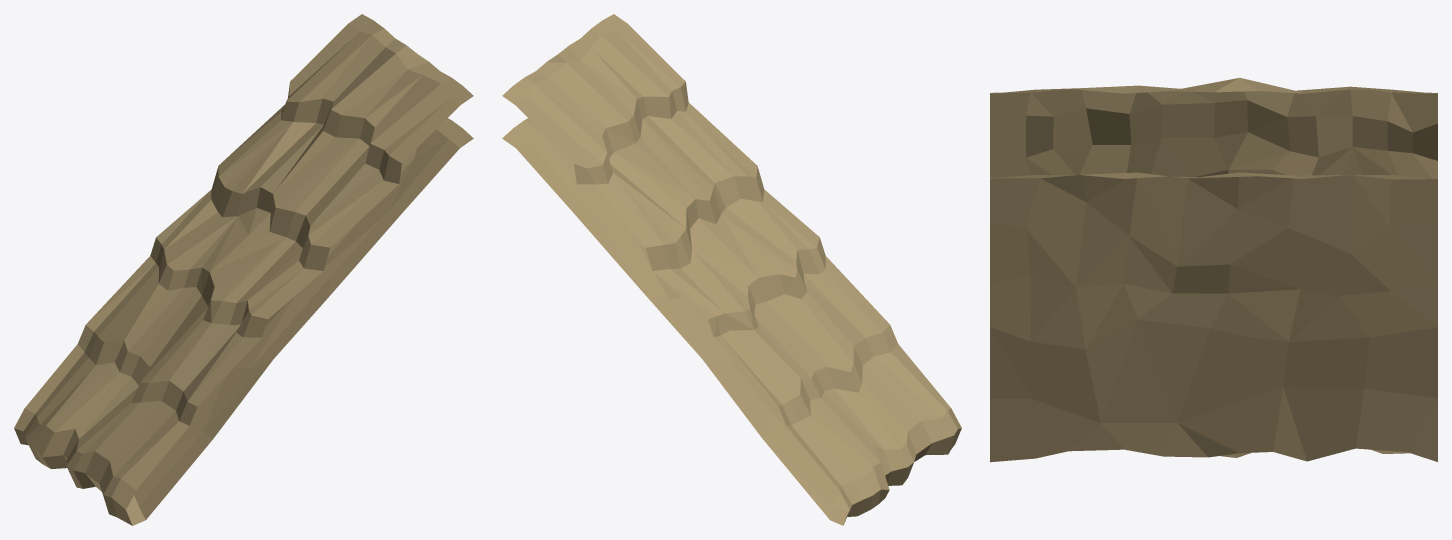
File: rpgpp_ag_roof_02b_9x4x3_half.fbx
The picture shows the model from 3 angles, left to right: view 1: azimuth 30°, elevation 25°; view 2: azimuth 150°, elevation 25°; view 3: azimuth 270°, elevation 25°; orthographic projection. The views are drawn at different scales.
Visible parts, largest first — view 1: rpgpp_ag_roof_02b_9x4x3_half; view 2: rpgpp_ag_roof_02b_9x4x3_half; view 3: rpgpp_ag_roof_02b_9x4x3_half.
Boxes of the visible parts, box(x1,y1,x2,y2) form: rpgpp_ag_roof_02b_9x4x3_half: box(14, 14, 473, 525); rpgpp_ag_roof_02b_9x4x3_half: box(502, 14, 961, 525); rpgpp_ag_roof_02b_9x4x3_half: box(990, 77, 1437, 462).
Size of the model in its own units: 5.5 by 5.17 by 3.
